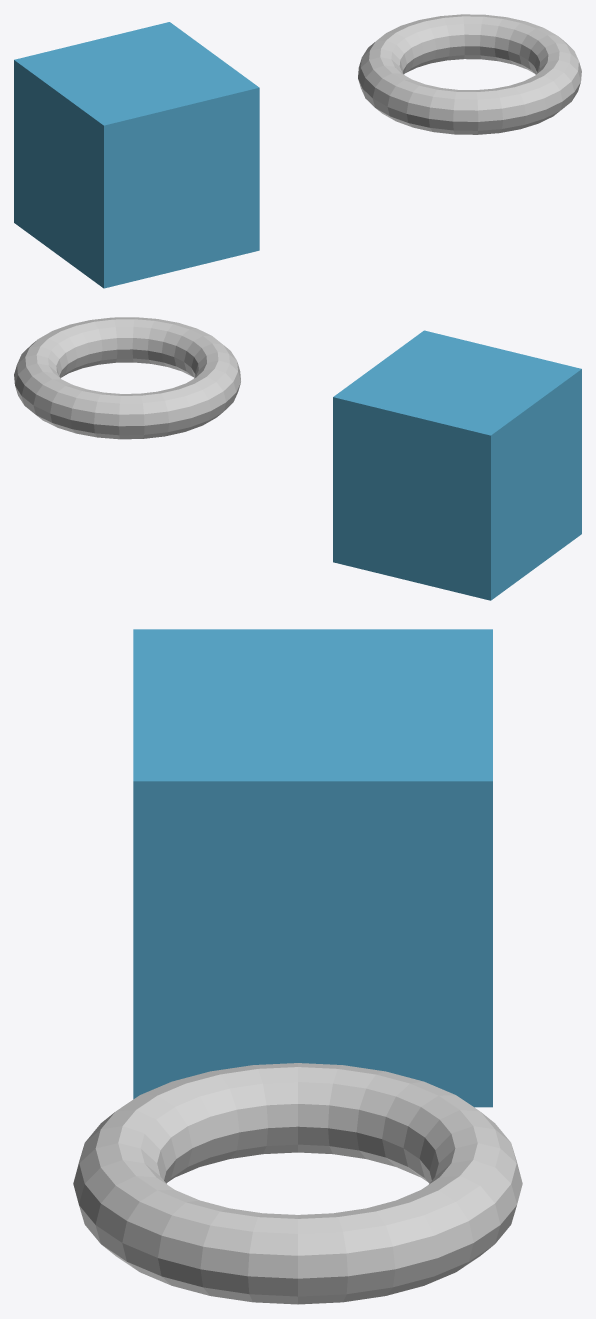
3 views of the same model, one above another, from view 1: azimuth 30°, elevation 25°; view 2: azimuth 150°, elevation 25°; view 3: azimuth 270°, elevation 25° (orthographic). The views are drawn at different scales.
Parts seen in each view (by area): view 1: Cube, Torus; view 2: Cube, Torus; view 3: Cube, Torus.
Boxes of the visible parts, x1,y1,x2,y2 form: Cube: (14, 22, 259, 288); Torus: (358, 14, 581, 134); Cube: (333, 330, 581, 600); Torus: (14, 317, 240, 439); Cube: (133, 629, 492, 1107); Torus: (73, 1063, 522, 1304).
Bounding box in the file's own units: 6.48 × 2.5 × 2.
